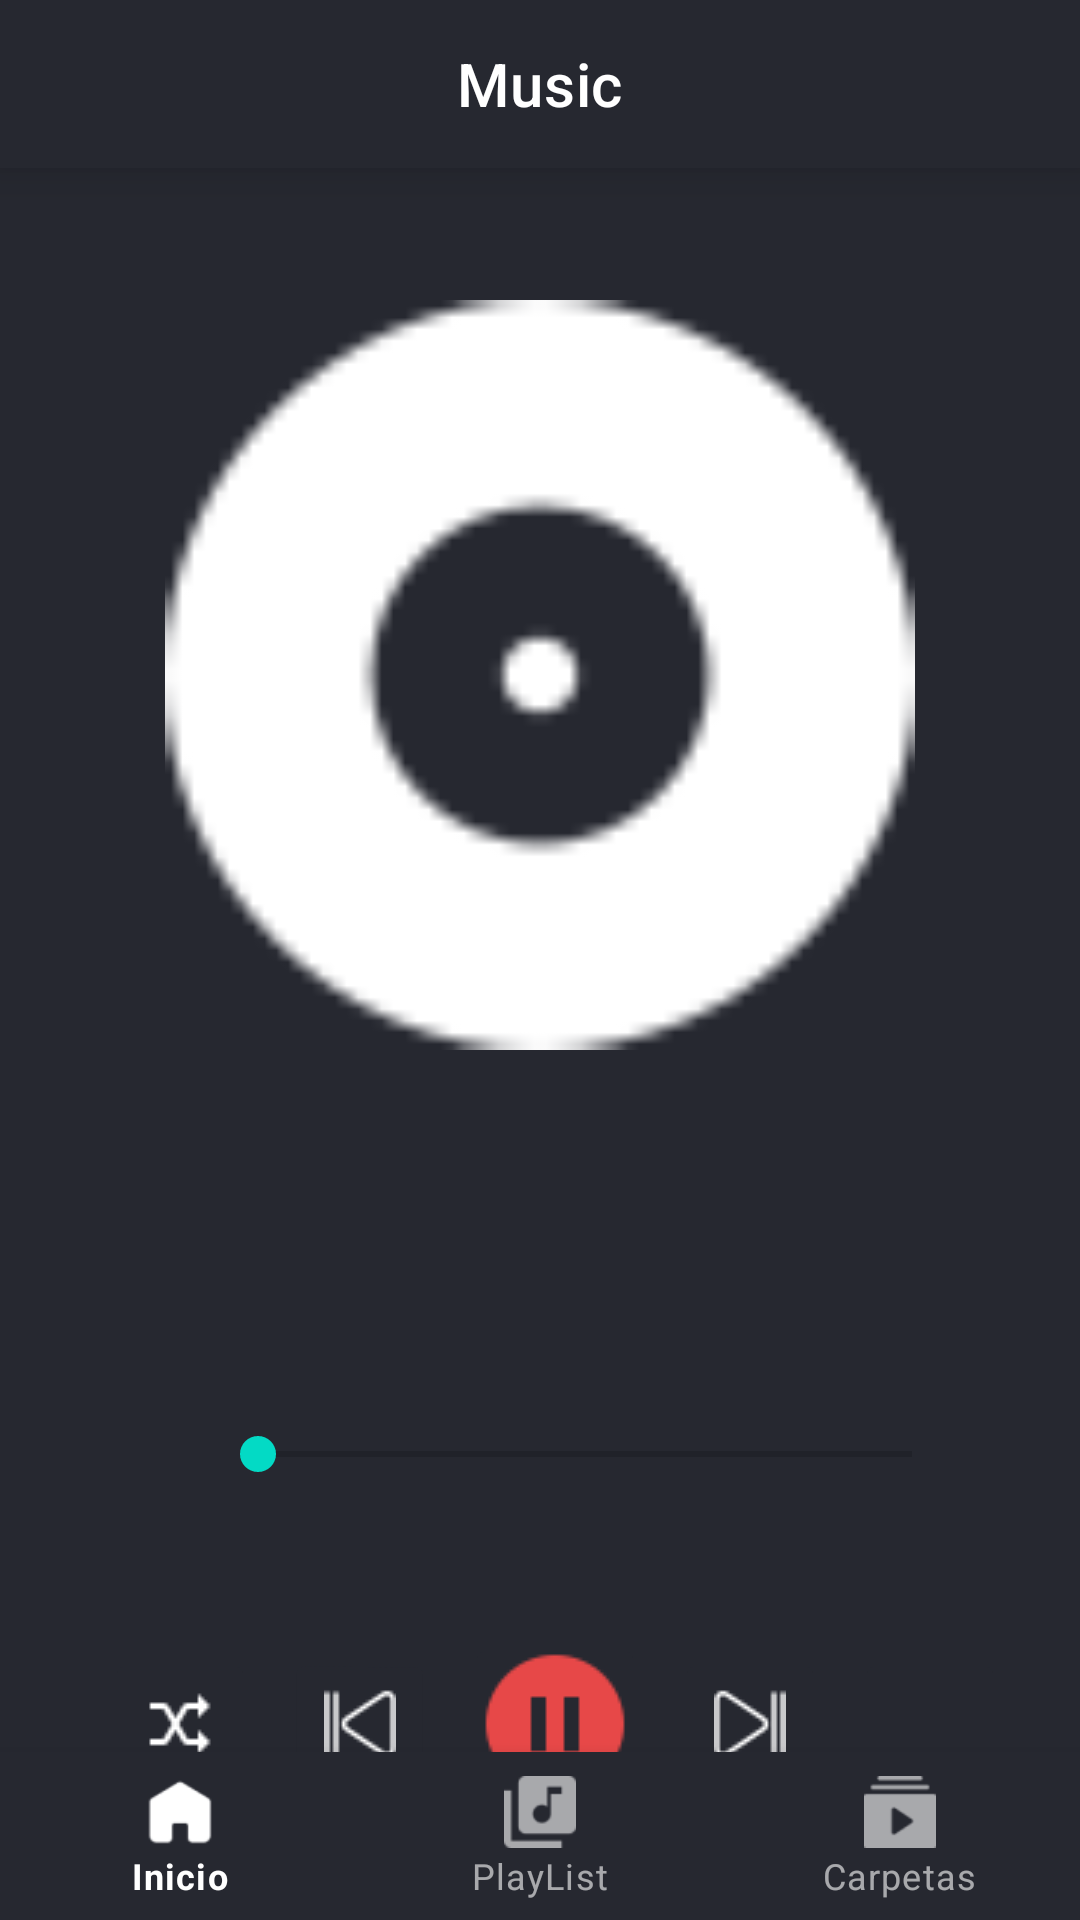

Icons on this 1080px x 1920px Android screen, each with its box as (x1, y1, x2, y2):
pause: (485, 1654, 625, 1752)
shuffle: (149, 1693, 211, 1752)
